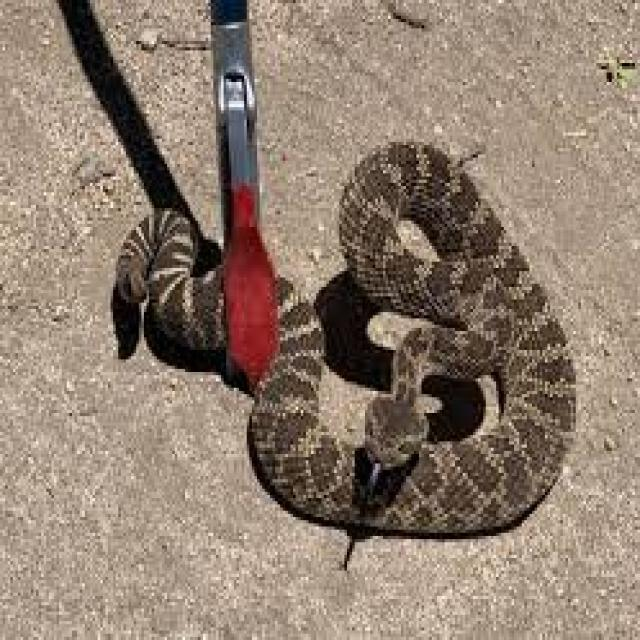Snake: (113, 136, 582, 547)
